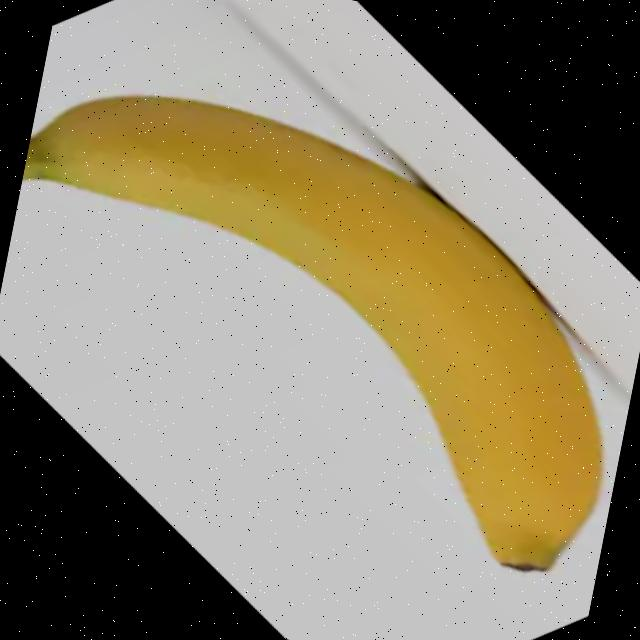banana: (0, 69, 640, 583)
